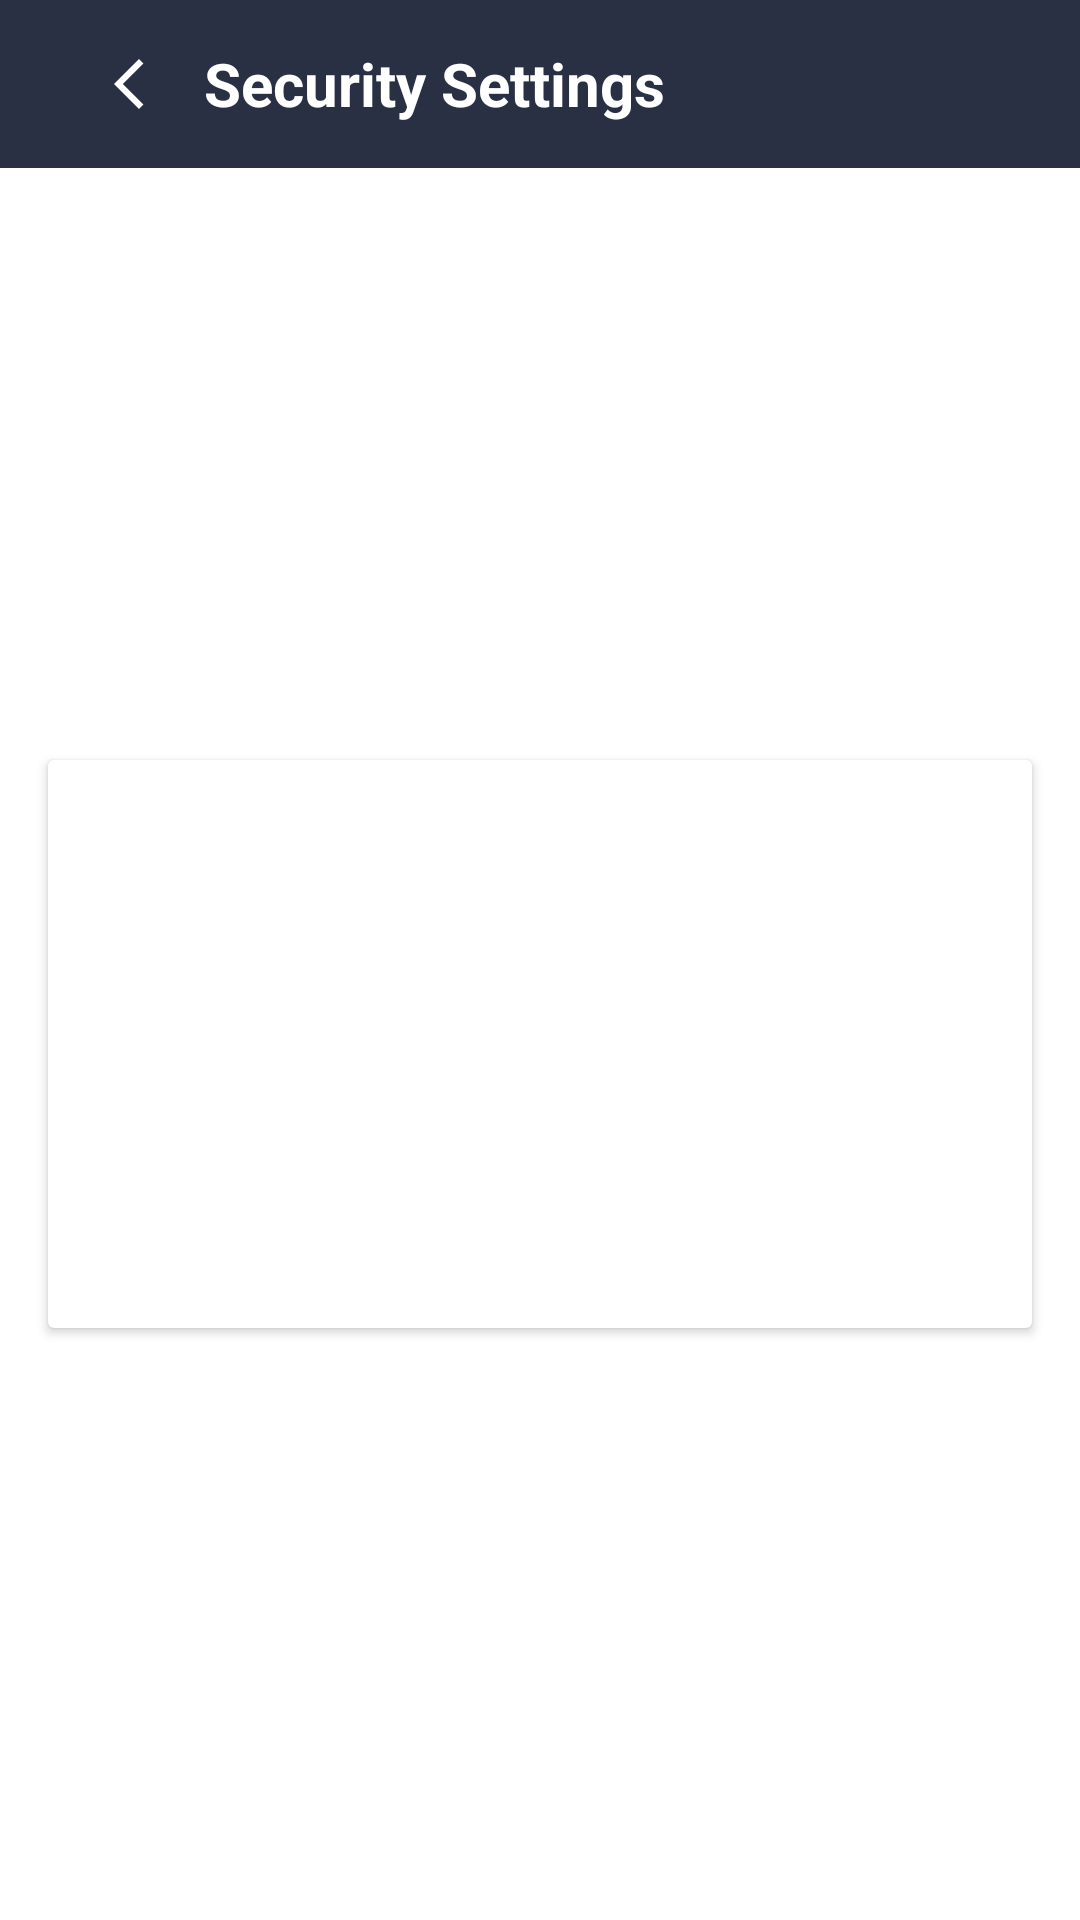

Point at icon controls on the screen. Image size 1080x1920, points as (x,y).
back: (129,84)
